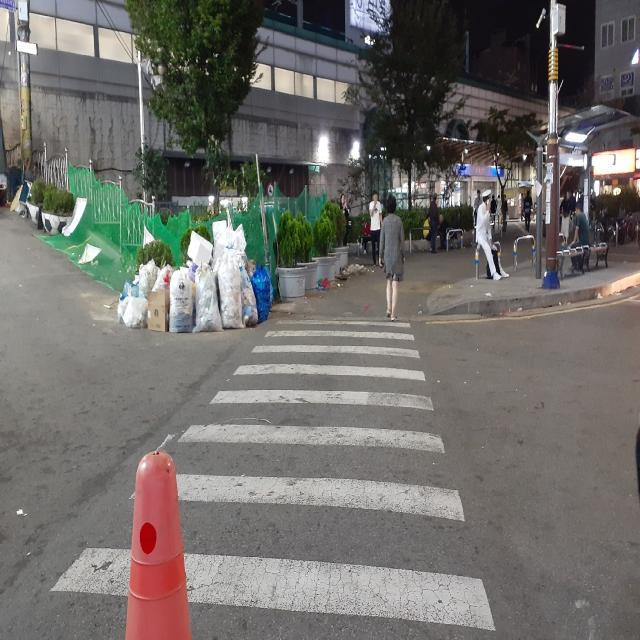횡단보도: (47, 316, 498, 634)
